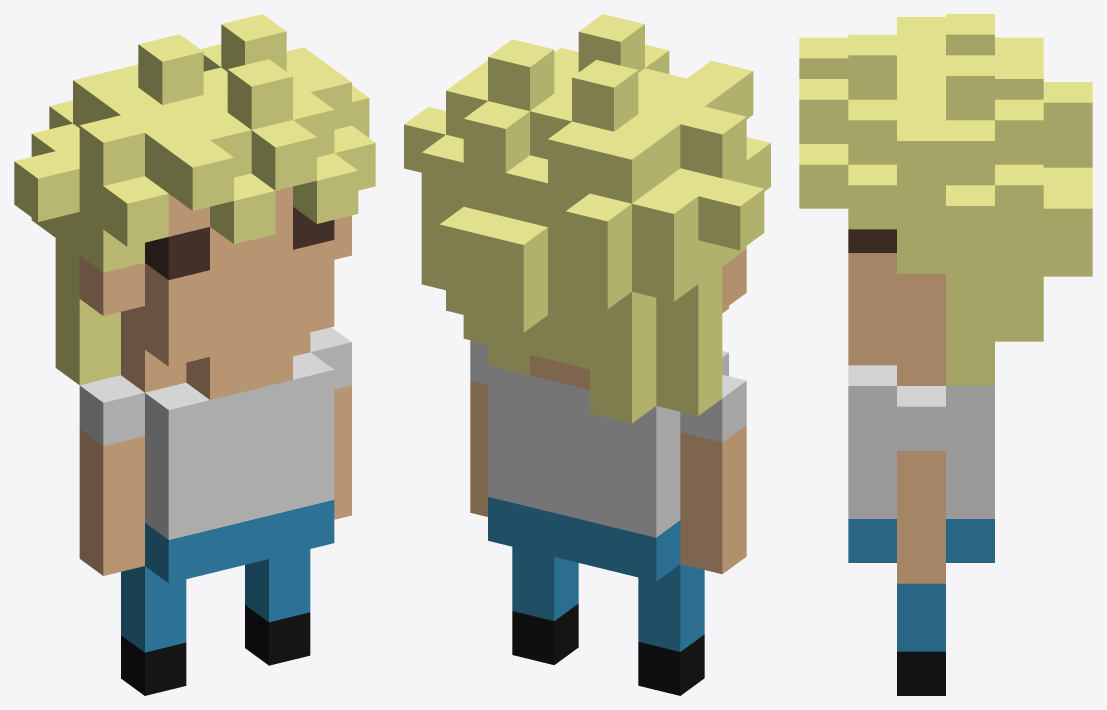
File: spec6.obj
3 views of the same model, side by side, from view 1: azimuth 30°, elevation 25°; view 2: azimuth 150°, elevation 25°; view 3: azimuth 270°, elevation 25° (orthographic). The views are drawn at different scales.
Size of the model in its own units: 0.8 by 1.4 by 0.6.
1 material, 1 textured.
